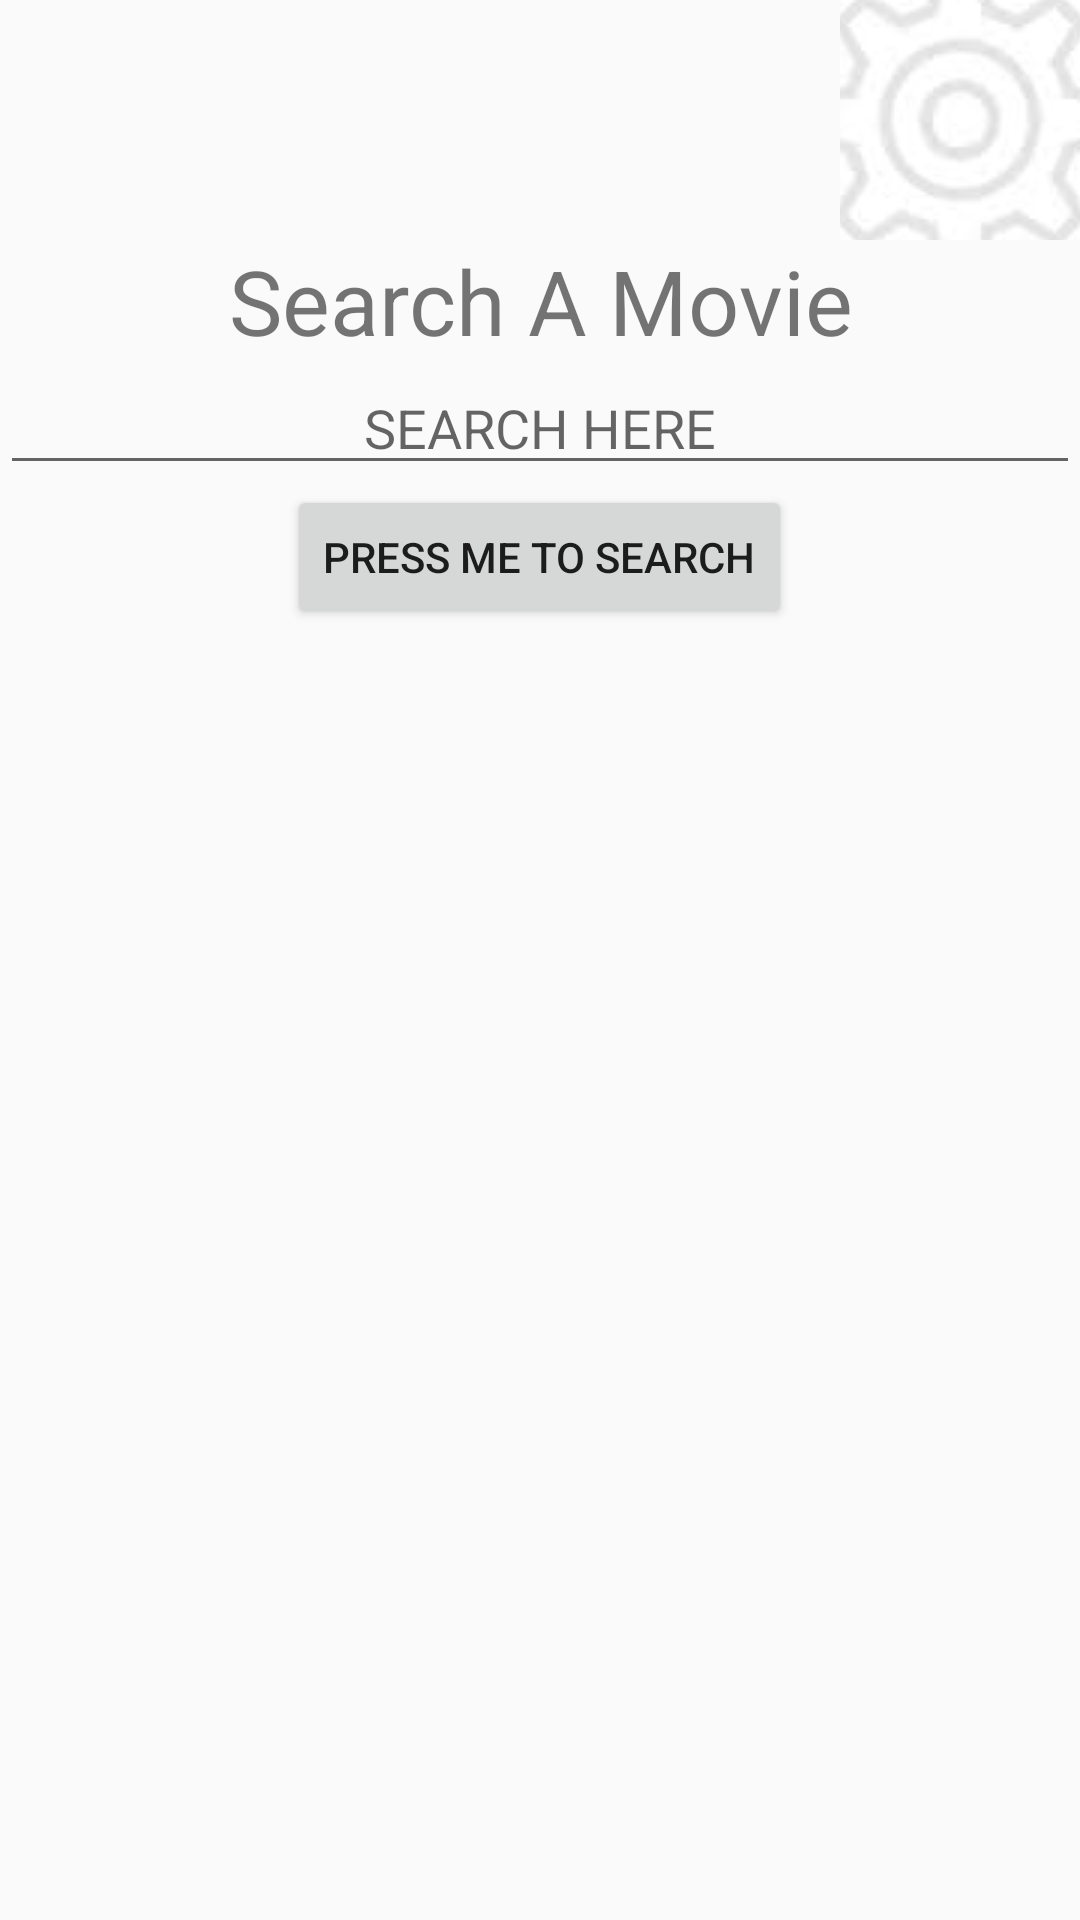

Screen size 1080 x 1920. Icon name, then its center in pixels as point (x, y):
gearicon: point (960, 120)
